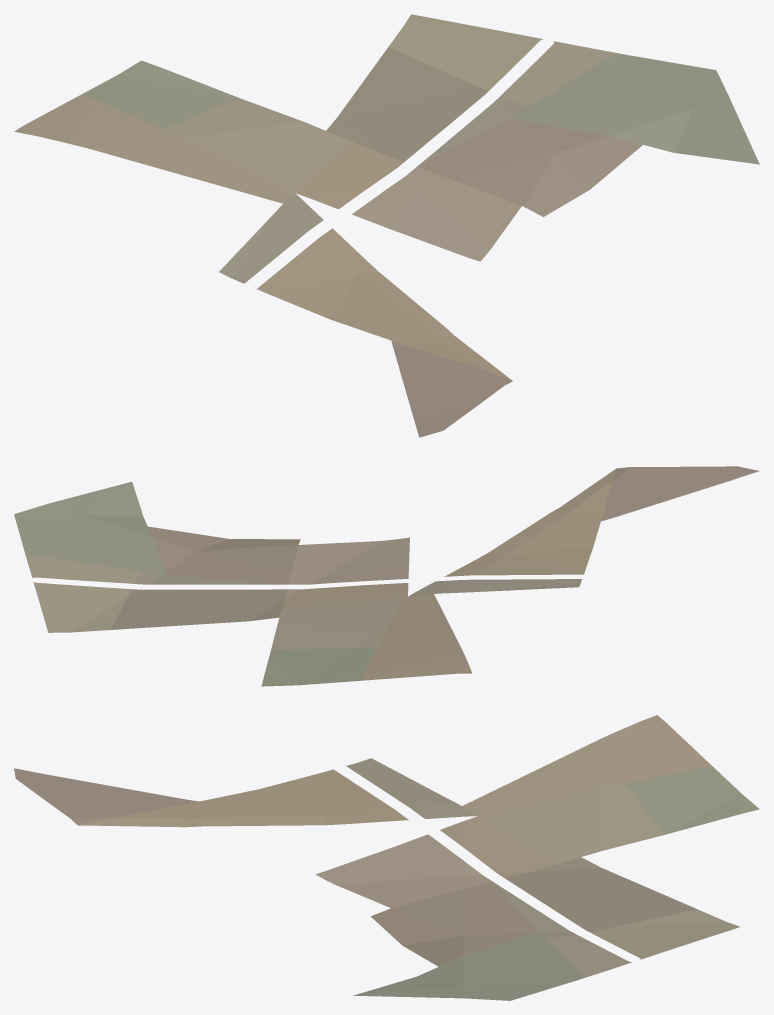
Rendered from farm_15_25_soil.glb.
3 views of the same model, one above another, from view 1: azimuth 30°, elevation 25°; view 2: azimuth 150°, elevation 25°; view 3: azimuth 270°, elevation 25° (orthographic). The views are drawn at different scales.
Visible parts, largest first — view 1: geometry_0; view 2: geometry_0; view 3: geometry_0.
Boxes of the visible parts, x1=… form: geometry_0: x1=14, y1=14, x2=759, y2=437; geometry_0: x1=14, y1=466, x2=759, y2=686; geometry_0: x1=14, y1=715, x2=759, y2=1000.
Size of the model in its own units: 357 by 30.68 by 430.
